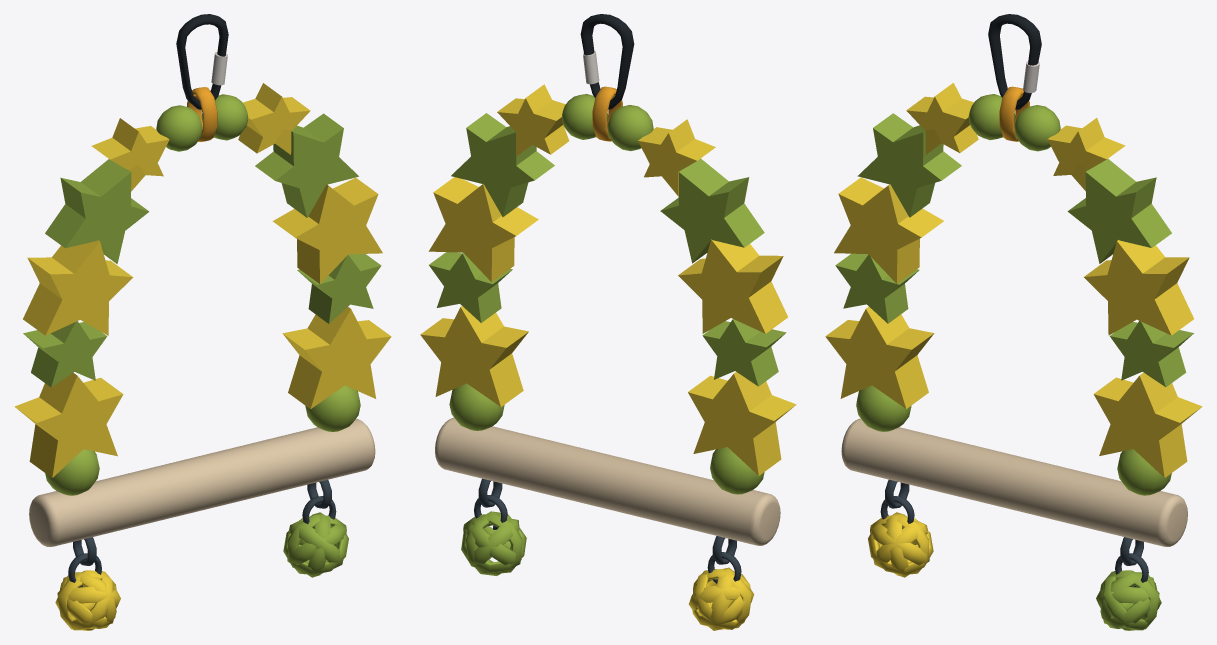
Rendered from SM_ParrotSwing.fbx.
3 renders of one model, left to right at view 1: azimuth 30°, elevation 25°; view 2: azimuth 150°, elevation 25°; view 3: azimuth 330°, elevation 25°, orthographic.
Visible parts, largest first — view 1: SM_YStars, SM_Log, SM_GStar, SM_Rubberballs, SM_BottomSphere, SM_TopSphere, SM_Hanger, SM_Rings, SM_TopRing; view 2: SM_YStars, SM_Log, SM_GStar, SM_Rubberballs, SM_BottomSphere, SM_TopSphere, SM_Hanger, SM_Rings, SM_TopRing; view 3: SM_YStars, SM_Log, SM_GStar, SM_Rubberballs, SM_BottomSphere, SM_TopSphere, SM_Hanger, SM_Rings, SM_TopRing.
Part boxes in pixels (x1=…): SM_YStars: x1=14, y1=83, x2=391, y2=477; SM_Log: x1=29, y1=418, x2=375, y2=546; SM_GStar: x1=23, y1=113, x2=381, y2=387; SM_Rubberballs: x1=55, y1=512, x2=348, y2=630; SM_BottomSphere: x1=45, y1=385, x2=360, y2=495; SM_TopSphere: x1=156, y1=94, x2=248, y2=151; SM_Hanger: x1=176, y1=14, x2=228, y2=109; SM_Rings: x1=68, y1=479, x2=336, y2=587; SM_TopRing: x1=187, y1=87, x2=217, y2=141; SM_YStars: x1=420, y1=84, x2=796, y2=475; SM_Log: x1=435, y1=417, x2=780, y2=545; SM_GStar: x1=429, y1=113, x2=786, y2=386; SM_Rubberballs: x1=461, y1=511, x2=754, y2=630; SM_BottomSphere: x1=449, y1=383, x2=764, y2=494; SM_TopSphere: x1=562, y1=94, x2=653, y2=150; SM_Hanger: x1=580, y1=14, x2=634, y2=109; SM_Rings: x1=474, y1=478, x2=741, y2=583; SM_TopRing: x1=592, y1=86, x2=622, y2=141; SM_YStars: x1=825, y1=83, x2=1202, y2=477; SM_Log: x1=841, y1=418, x2=1187, y2=546; SM_GStar: x1=835, y1=113, x2=1193, y2=386; SM_Rubberballs: x1=868, y1=512, x2=1161, y2=630; SM_BottomSphere: x1=856, y1=385, x2=1171, y2=495; SM_TopSphere: x1=968, y1=94, x2=1060, y2=151; SM_Hanger: x1=988, y1=14, x2=1041, y2=109; SM_Rings: x1=880, y1=479, x2=1148, y2=587; SM_TopRing: x1=999, y1=86, x2=1029, y2=141.
Bounding box in the file's own units: 56.04 × 88.73 × 9.14.
1 material, 1 textured.
